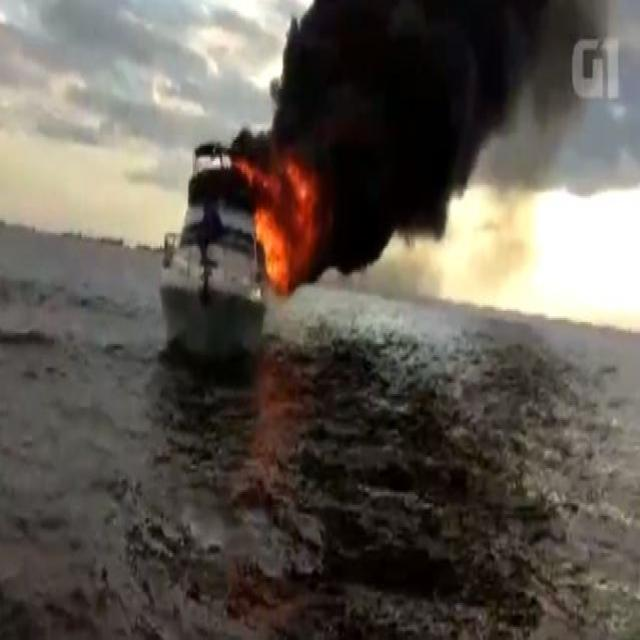Fire: (250, 154, 320, 288)
Smoke: (274, 0, 541, 274)
